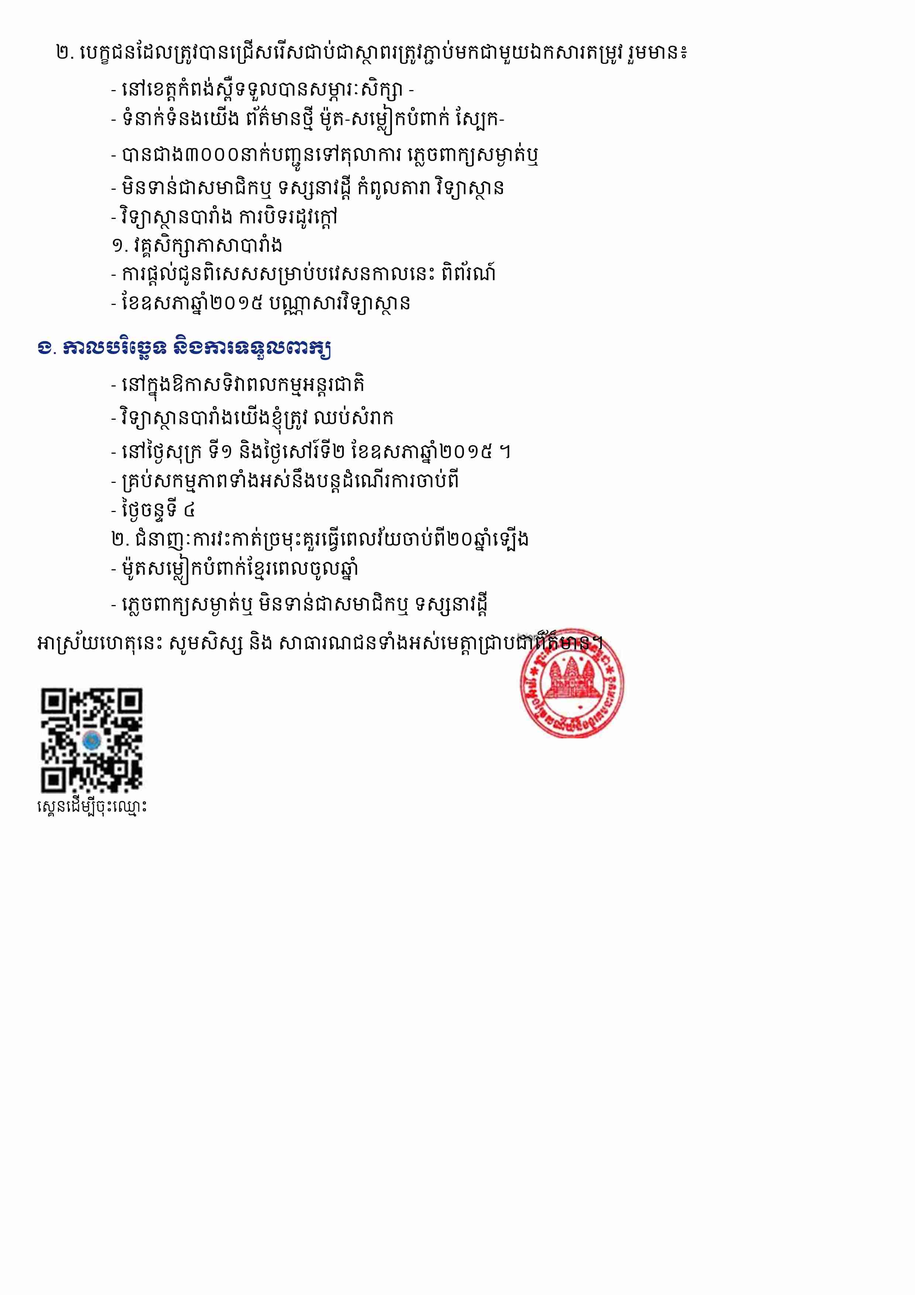decorative: (37, 683, 148, 794), (517, 628, 627, 738)
text: (55, 39, 689, 65), (37, 630, 604, 655), (111, 142, 539, 172), (111, 104, 505, 136), (111, 526, 530, 552), (111, 439, 511, 464), (111, 175, 505, 200), (111, 261, 497, 286), (111, 591, 488, 616), (111, 468, 460, 493), (111, 405, 394, 435), (111, 553, 359, 585), (111, 76, 414, 102), (37, 334, 331, 360), (111, 372, 365, 402), (111, 290, 411, 315), (111, 205, 338, 229), (111, 233, 283, 258), (37, 794, 148, 817), (111, 497, 196, 522)
